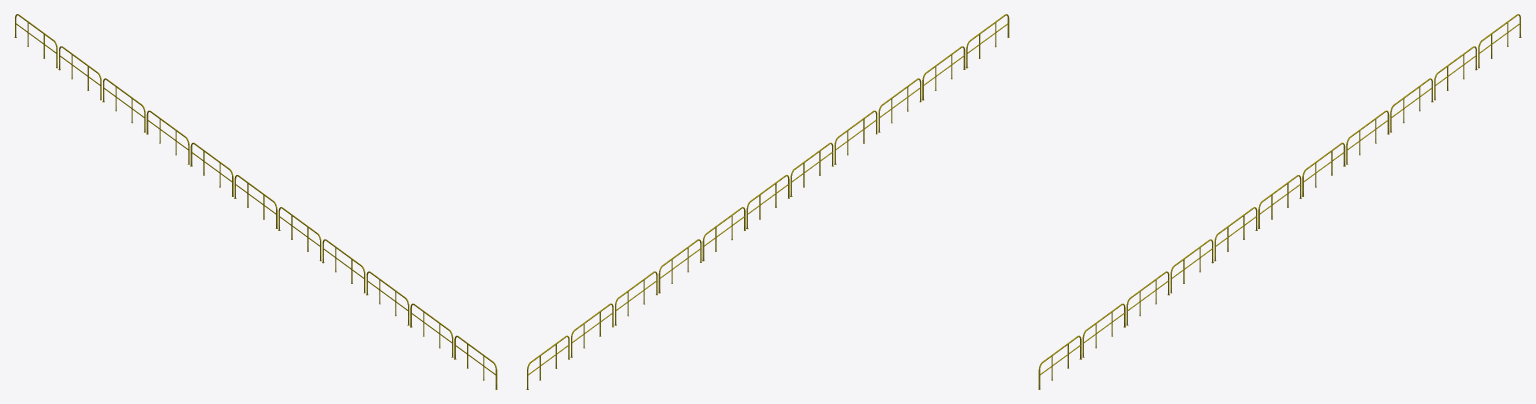
File: Handrail_export.fbx
3 views of the same model, side by side, from view 1: azimuth 30°, elevation 25°; view 2: azimuth 150°, elevation 25°; view 3: azimuth 330°, elevation 25° (orthographic).
Parts seen in each view (by area): view 1: Handrail.001; view 2: Handrail.001; view 3: Handrail.001.
Boxes of the visible parts, bbox=[...] form: Handrail.001: bbox=[14, 14, 497, 389]; Handrail.001: bbox=[526, 14, 1009, 389]; Handrail.001: bbox=[1038, 14, 1521, 389].
Size of the model in its own units: 62.65 by 642 by 22160.
Materials: 1 (1 with a texture image).
